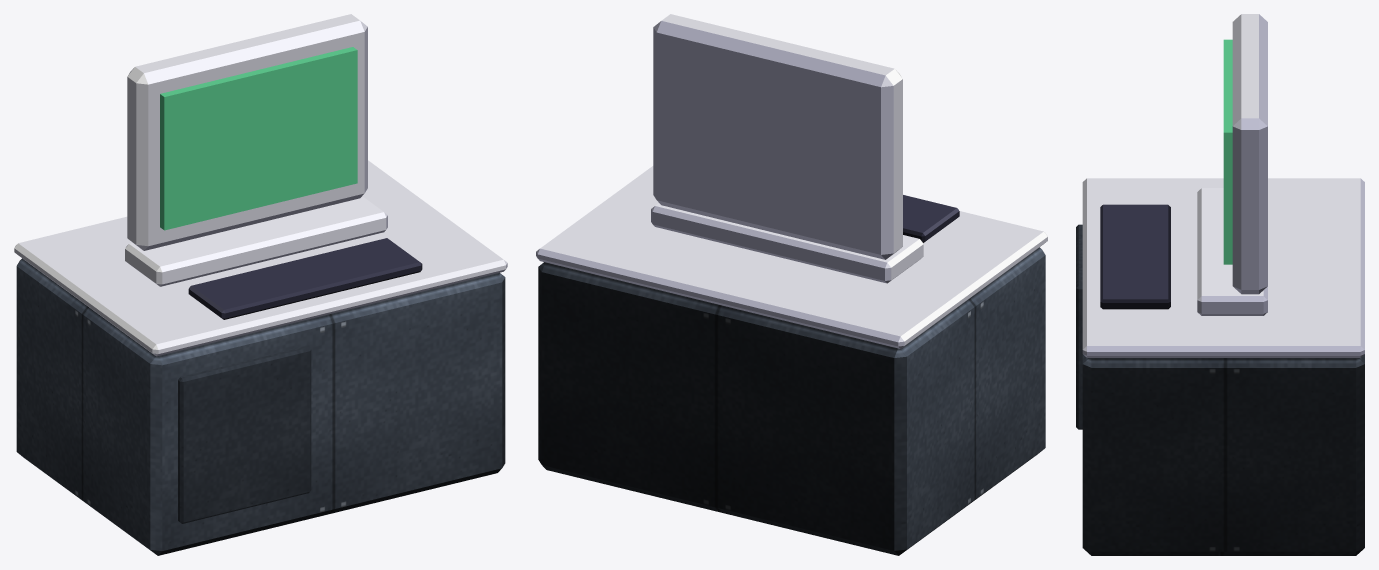
3 views of the same model, side by side, from view 1: azimuth 30°, elevation 25°; view 2: azimuth 150°, elevation 25°; view 3: azimuth 270°, elevation 25° (orthographic). The views are drawn at different scales.
Parts seen in each view (by area): view 1: pc; view 2: pc; view 3: pc.
Boxes of the visible parts, left/top/right/bottom form: pc: left=14, top=14, right=507, bottom=555; pc: left=536, top=14, right=1047, bottom=555; pc: left=1076, top=14, right=1364, bottom=555.
Bounding box in the file's own units: 0.92 × 1.02 × 0.655.
5 materials, 5 textured.
